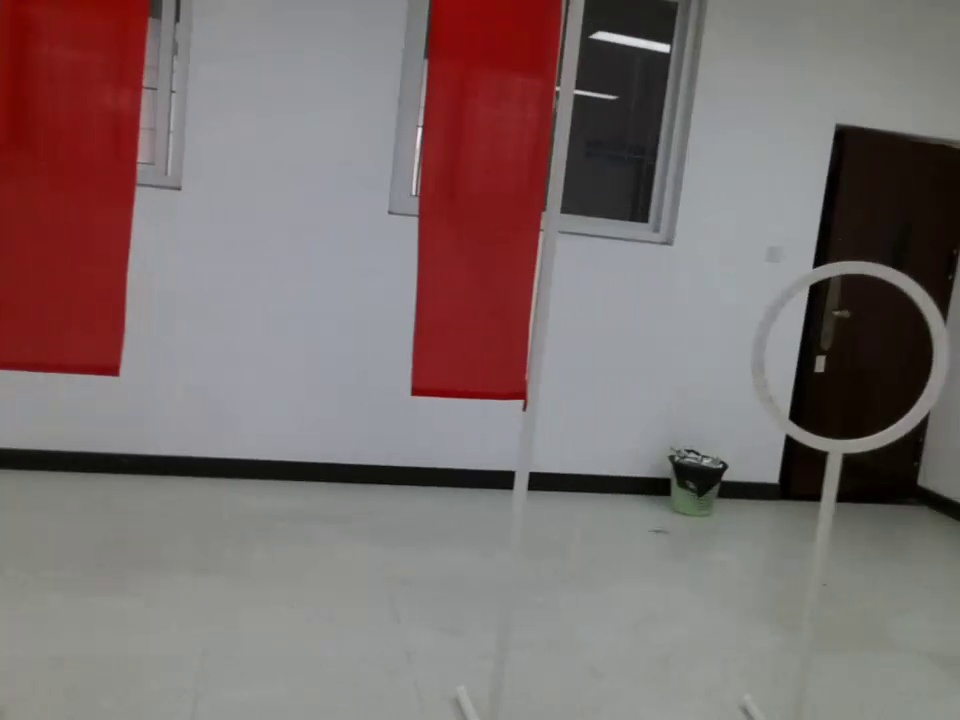qi: (409, 3, 584, 421), (1, 3, 161, 395)
quan: (747, 254, 952, 471)
